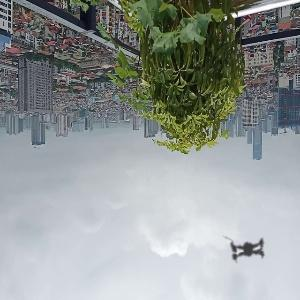drone: (206, 206, 297, 297)
